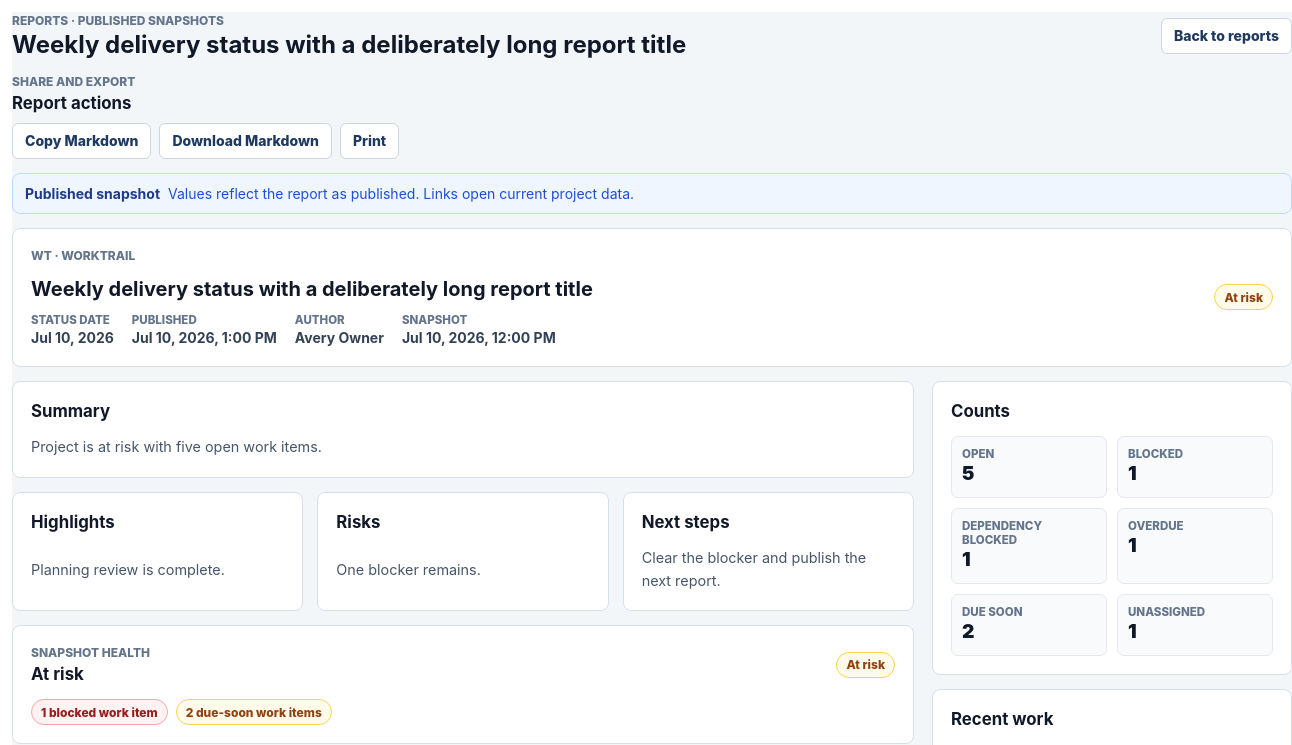
Test: ProjectStatusReportDetailPageComponent › copies exported Markdown to the clipboard
The image size is (1292, 745).
Click the button "Copy Markdown".
click(82, 141)  # box [12,123,151,159]
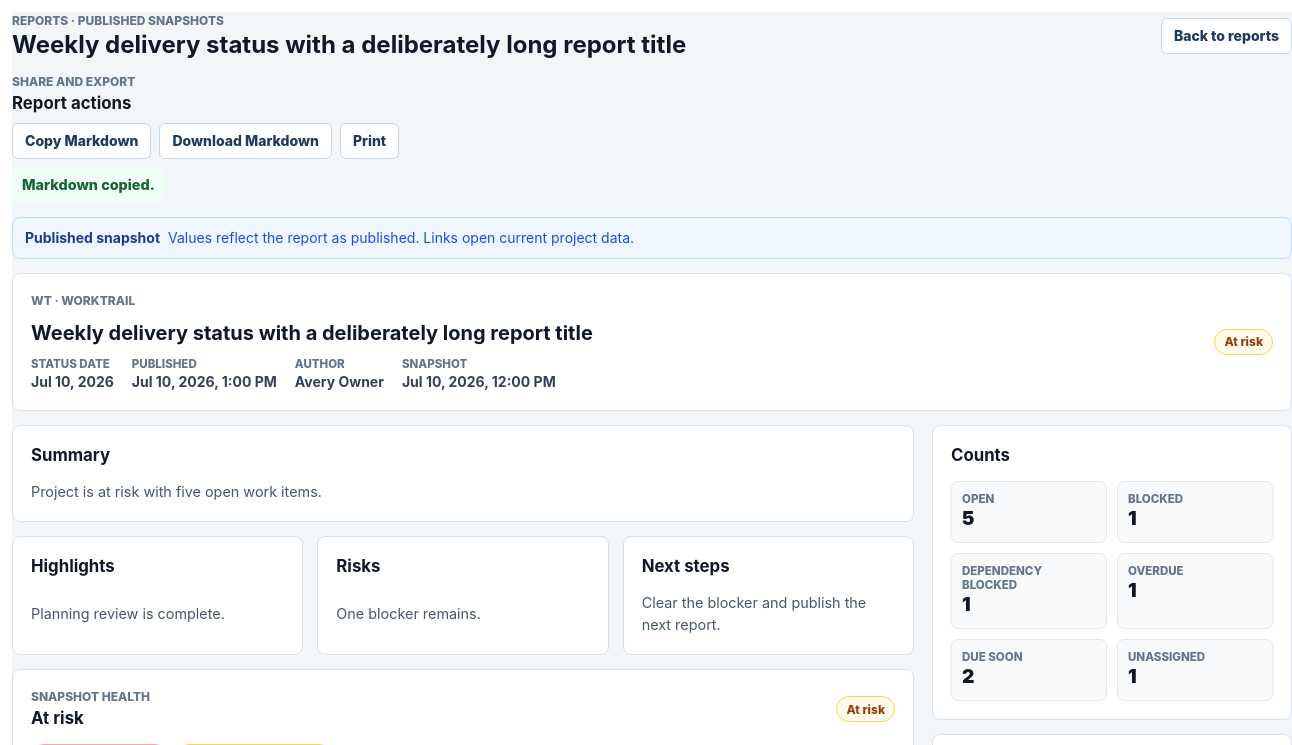
Result: the text "Markdown copied." is shown at [12,167,165,203]
